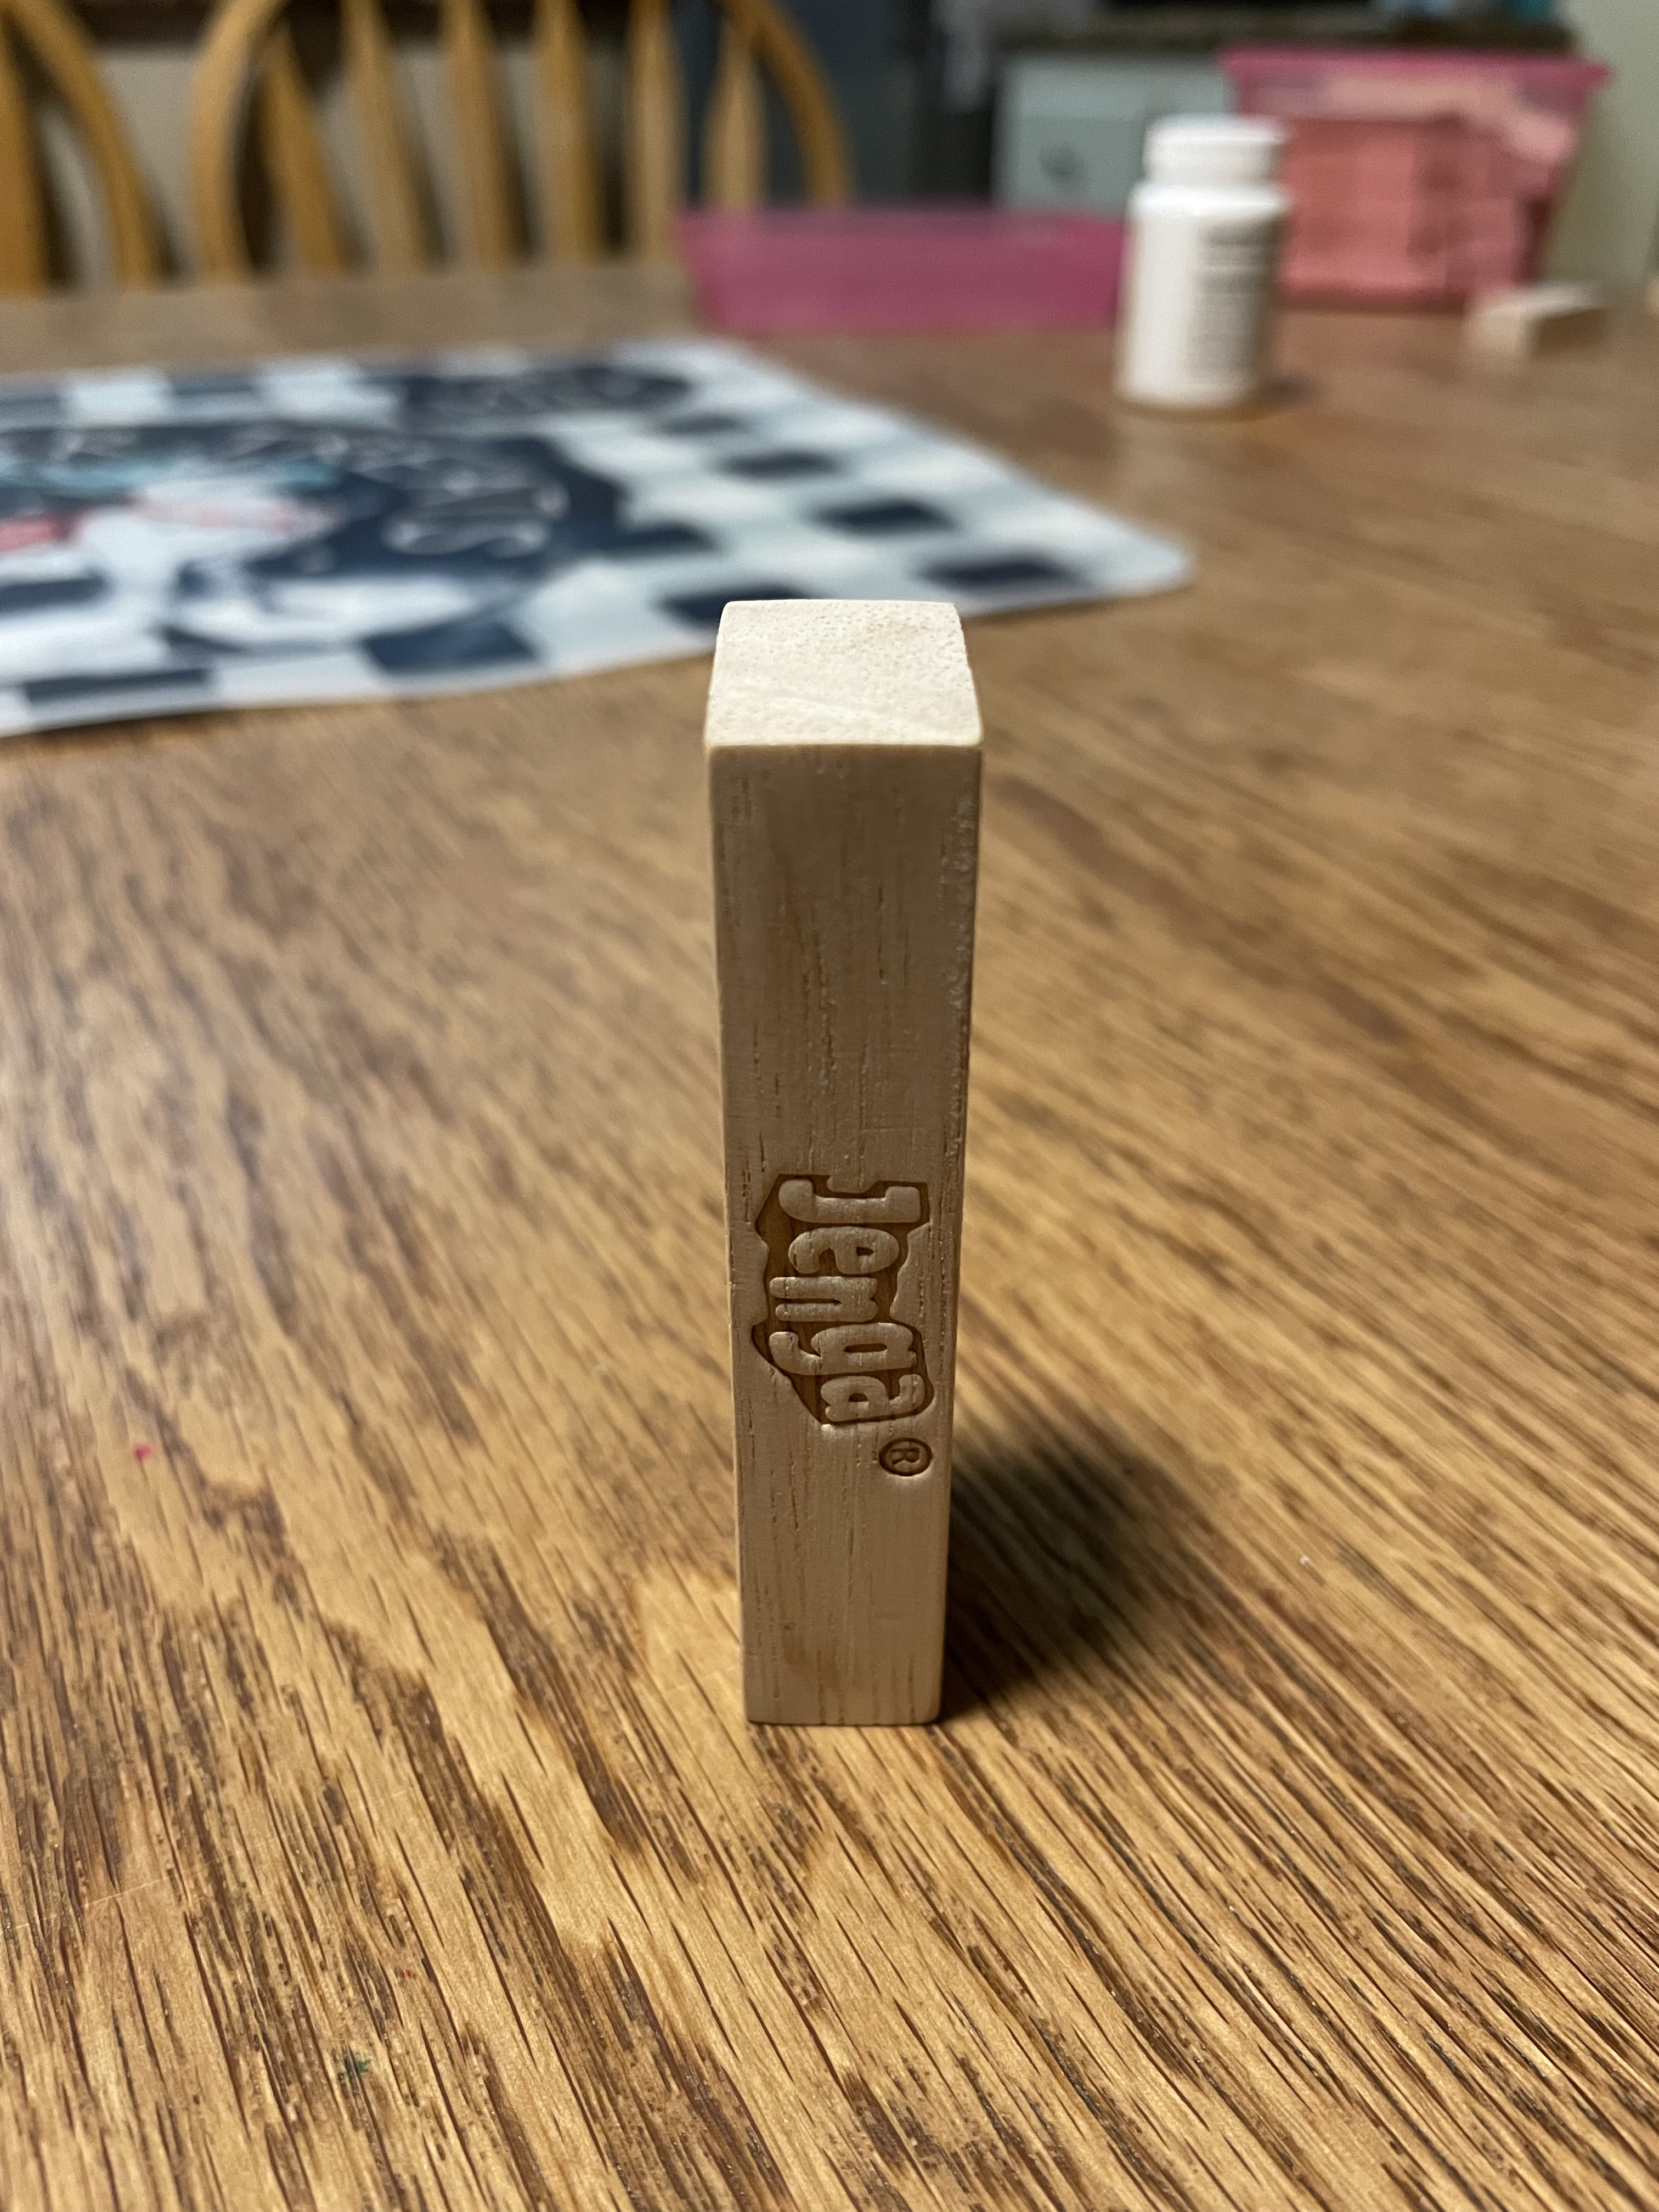jenga: (704, 589, 983, 1738)
